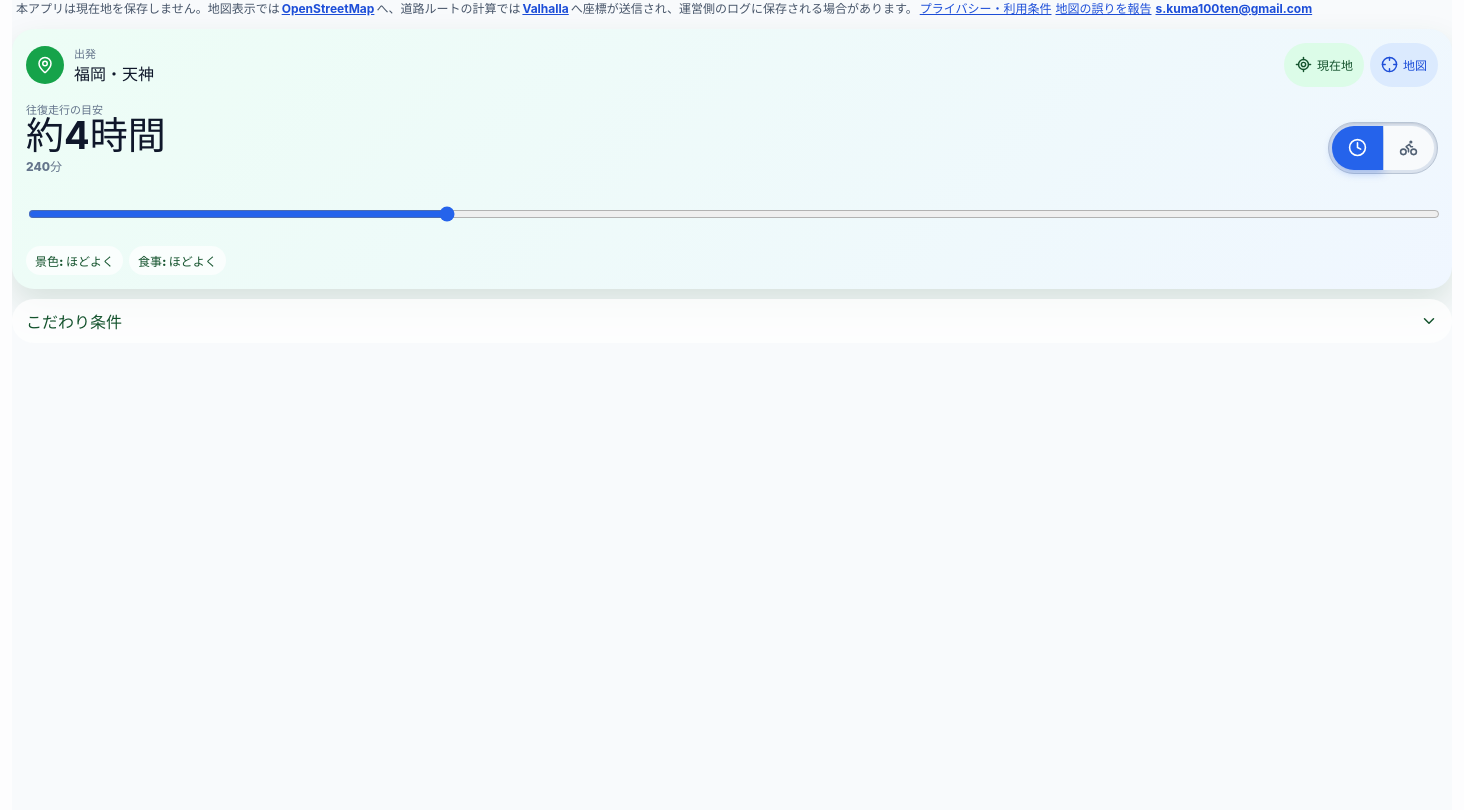
InputPanel proposal provider UI › hides unusable ChatGPT login on the public build
Click the button "こだわり条件". click: (74, 322)
box: [12, 299, 1452, 343]
(page scrolled)
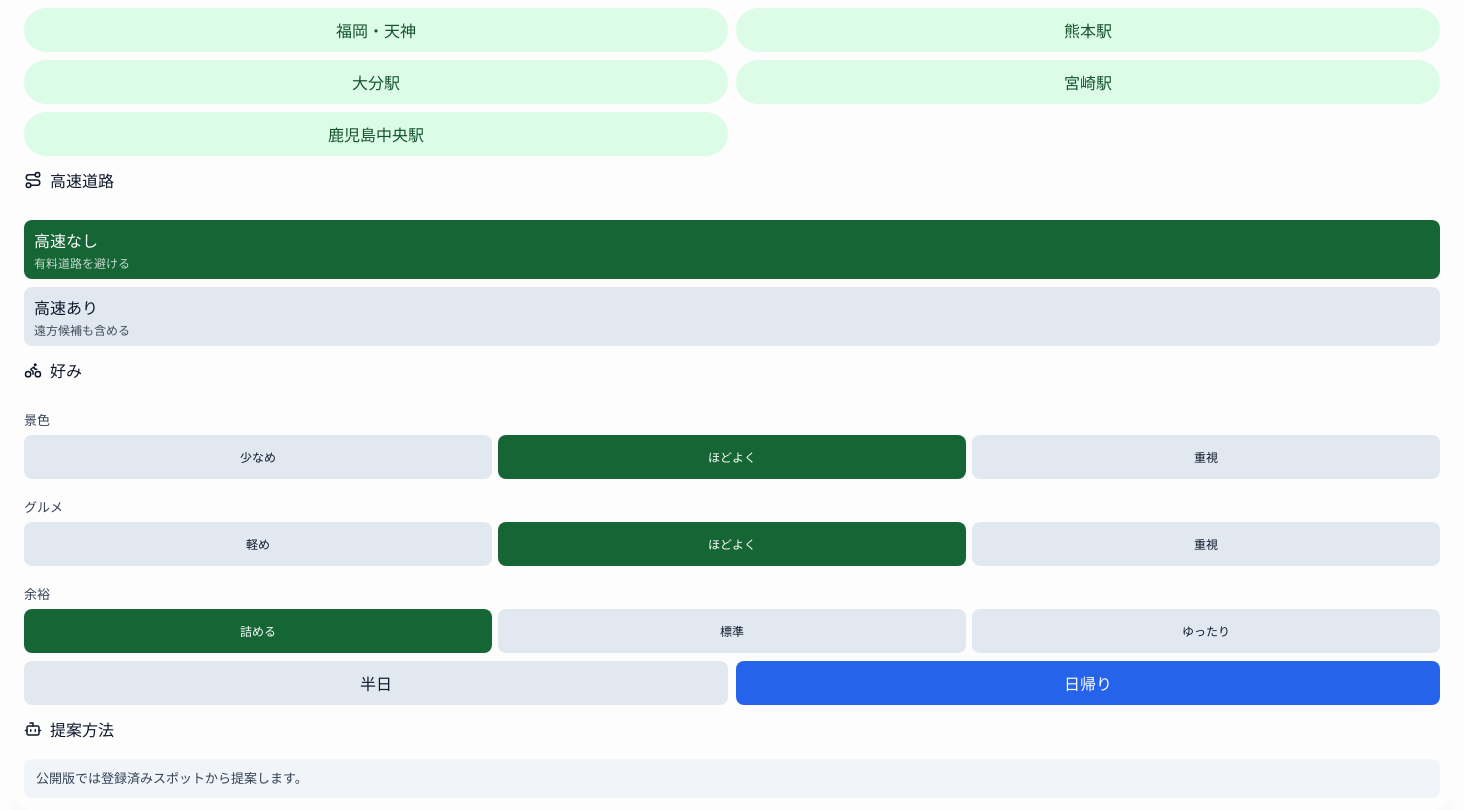
Expected: the text "公開版では登録済みスポットから提案します。" is shown, [24, 759, 1440, 798]
